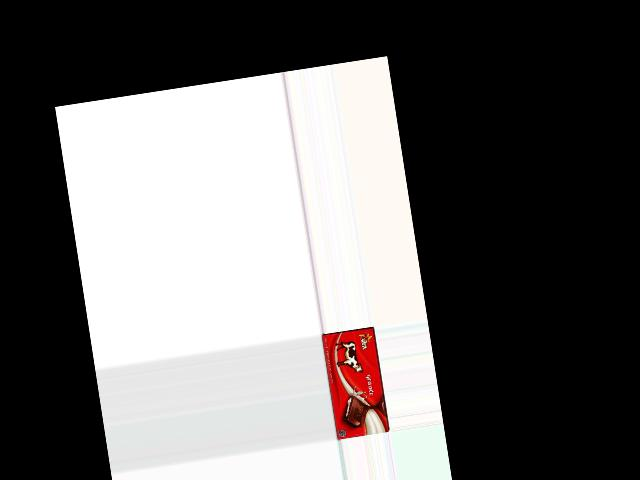chocolate: (320, 324, 389, 439)
